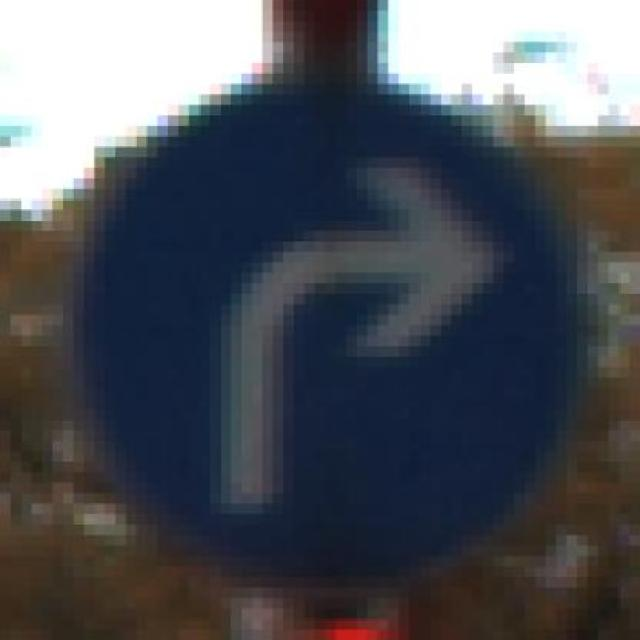Turn right ahead: (73, 52, 609, 566)
